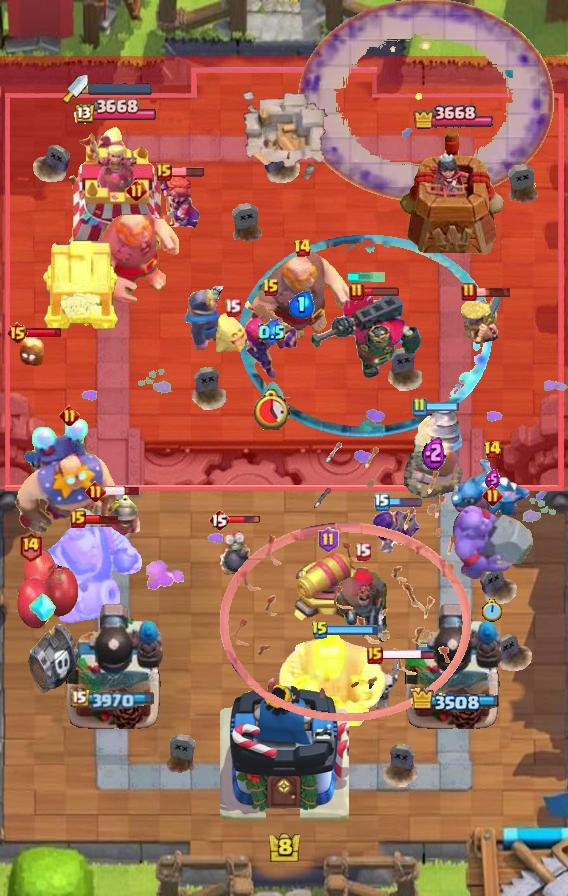archer-queen: (448, 504, 536, 584)
arrows: (461, 295, 501, 345)
balloon: (248, 249, 356, 349), (89, 203, 183, 305)
bandit: (73, 491, 143, 557)
bar: (55, 126, 173, 256)
bat-evolution: (214, 313, 250, 355)
bomb: (41, 237, 121, 331)
bomber: (18, 336, 46, 368)
electro-spirit: (422, 434, 446, 470), (258, 319, 285, 346), (289, 291, 315, 319), (485, 469, 499, 489)
elixir: (251, 388, 291, 430), (481, 599, 502, 623)
emote: (381, 648, 436, 661), (327, 624, 379, 636), (475, 286, 512, 298), (104, 485, 141, 497), (169, 166, 205, 178), (424, 400, 460, 412), (387, 496, 423, 508), (363, 287, 400, 298), (26, 327, 63, 338), (84, 514, 120, 525), (227, 515, 261, 525)
firecracker: (185, 286, 230, 351)
giant-skeleton: (35, 521, 142, 623), (277, 632, 387, 726)
goblin-ball: (370, 505, 422, 559)
graveyard: (450, 457, 534, 521)
heal-spirit: (372, 658, 400, 710)
ice-golem: (217, 522, 253, 580)
ice-spirit: (346, 272, 386, 282)
inferno-tower: (310, 292, 422, 380)
king-tower: (219, 678, 349, 826)
king-tower-bar: (88, 83, 152, 95)
little-prince: (13, 415, 125, 535)
magic-archer: (404, 407, 464, 499)
mega-minion: (241, 296, 301, 382)
pad_0: (240, 234, 492, 438)
pad_2: (29, 590, 57, 624)
phoenix-small: (334, 563, 390, 645)
queen-tower: (398, 128, 508, 256)
rocket: (298, 0, 554, 203)
royal-recruit: (289, 549, 367, 625)
royal-recruit-evolution: (15, 548, 83, 698)
selected: (413, 102, 493, 133), (72, 98, 156, 126), (410, 687, 499, 713), (71, 688, 157, 710)
skeleton-barrel: (219, 441, 473, 721)
tesla-evolution: (154, 169, 202, 229)
text: (18, 531, 43, 561), (6, 321, 29, 345), (318, 527, 339, 553), (208, 508, 230, 532), (85, 481, 106, 503), (126, 180, 147, 201), (59, 406, 80, 427), (481, 485, 502, 506), (292, 238, 312, 258), (482, 440, 501, 460), (262, 278, 280, 298), (311, 620, 329, 640), (353, 542, 371, 561), (461, 282, 477, 302), (349, 282, 365, 302), (411, 397, 427, 417), (224, 299, 241, 317), (156, 163, 172, 181), (374, 493, 390, 511), (70, 510, 86, 528), (367, 646, 383, 664)
tower-bar: (64, 601, 164, 731), (403, 601, 503, 731)
